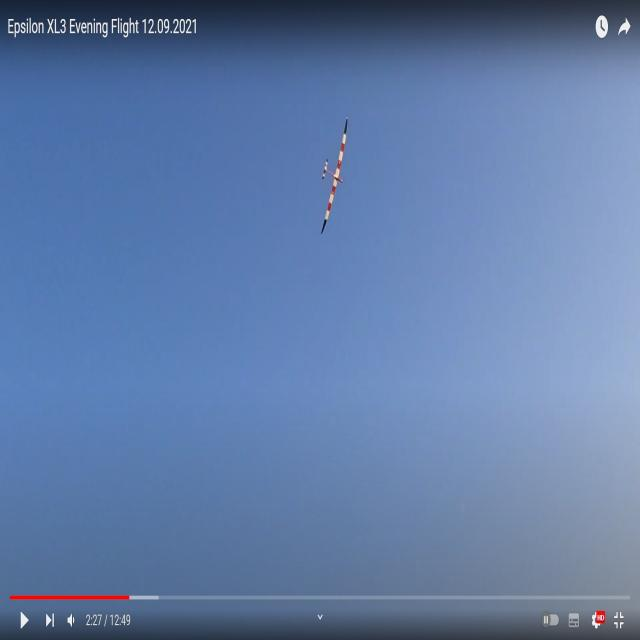iha: (317, 145, 353, 208)
